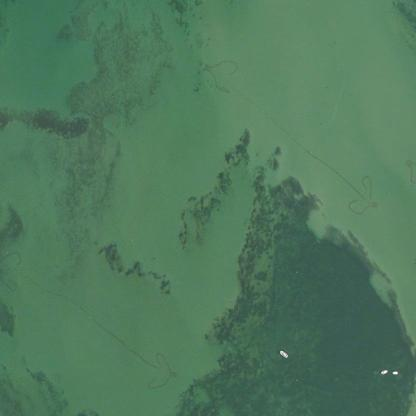ship: (275, 346, 291, 362), (374, 365, 388, 377), (391, 365, 401, 380)
